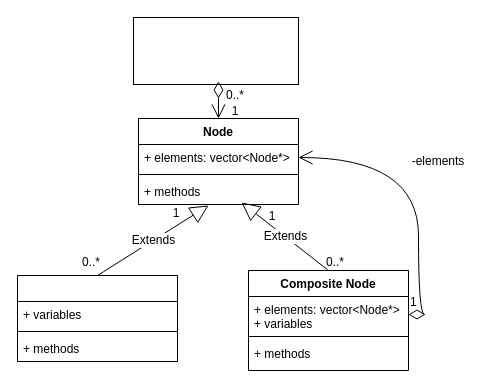
Some shapes in this 486 by 391 pixel diagram are drawn without their labels. The box of each missing label's shape, as (x1, y1, x2, y2) in pixels:
<<Interface>> Scene + rootNode: Node: (132, 16, 298, 84)
Leaf Node: (16, 274, 178, 362)
